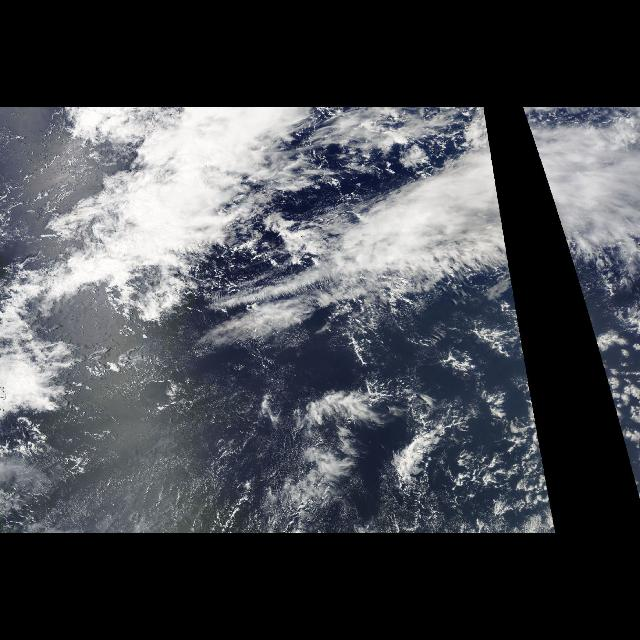Fish: (194, 275, 348, 353)
Gravel: (438, 399, 556, 533)
Sugar: (12, 358, 284, 532)
